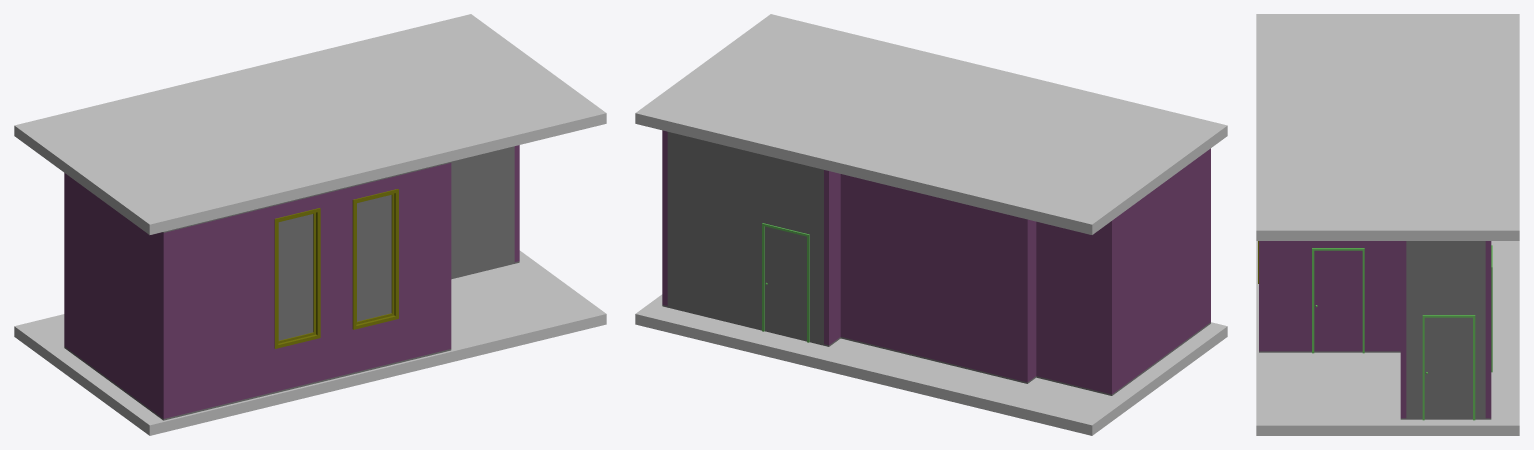
The model's file is FloorPlan212.fbx.
3 renders of one model, left to right at view 1: azimuth 30°, elevation 25°; view 2: azimuth 150°, elevation 25°; view 3: azimuth 270°, elevation 25°, orthographic. The views are drawn at different scales.
Parts seen in each view (by area): view 1: StandardWallSize, Floor (2), Floor, WindowGlass, WindowTreatment2 (2), WindowTreatment2, StandardWindow1 (2), StandardWindow1; view 2: StandardWallSize, Floor (2), Floor, StandardDoorFrame1; view 3: Floor (2), StandardWallSize, Floor, StandardDoorFrame1 (2), StandardDoorFrame1 (3).
Part boxes in pixels (x1,y1,x2,y2): StandardWallSize: (64,145,519,420); Floor (2): (14,14,606,234); Floor: (14,250,606,435); WindowGlass: (278,195,391,340); WindowTreatment2 (2): (352,189,398,329); WindowTreatment2: (274,208,320,348); StandardWindow1 (2): (356,193,394,324); StandardWindow1: (278,212,315,343); StandardWallSize: (662,130,1210,395); Floor (2): (635,14,1227,234); Floor: (635,294,1227,435); StandardDoorFrame1: (762,223,809,342); Floor (2): (1256,14,1519,240); StandardWallSize: (1259,241,1491,419); Floor: (1256,241,1519,435); StandardDoorFrame1 (2): (1422,315,1475,420); StandardDoorFrame1 (3): (1312,248,1364,353).
Bounding box in the file's own units: 905 × 400 × 465.
